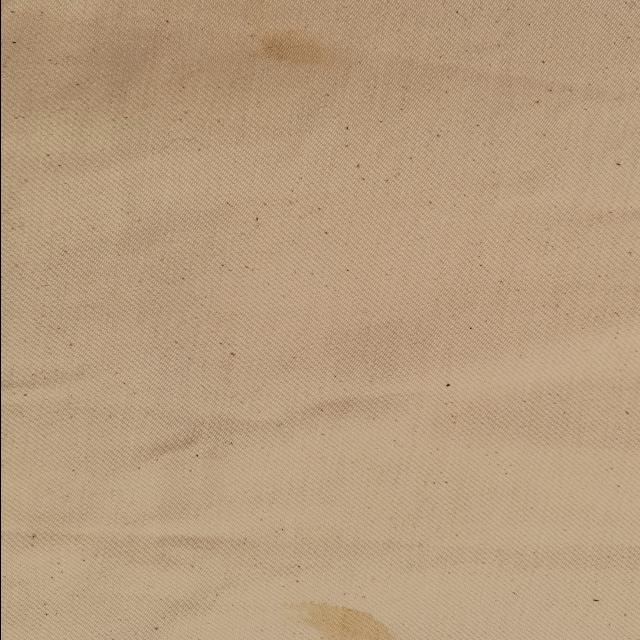taaaches: (276, 592, 408, 640), (246, 33, 342, 69)
